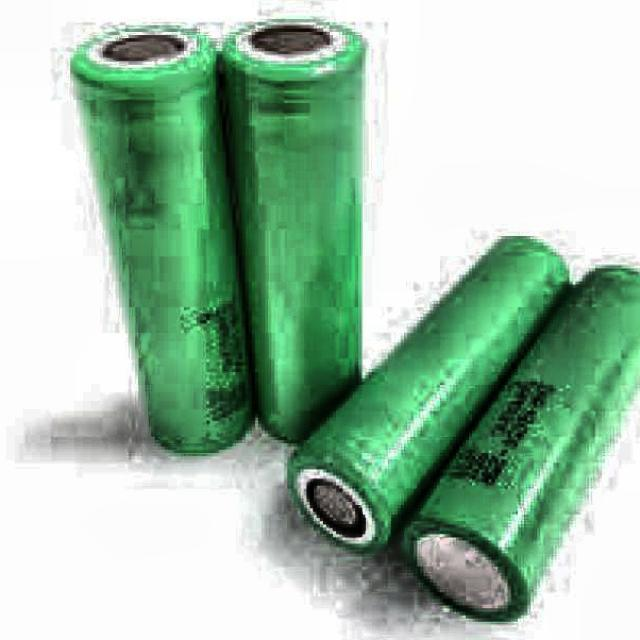battery: (400, 265, 640, 623), (291, 239, 560, 547), (74, 25, 249, 450), (223, 16, 362, 440)
